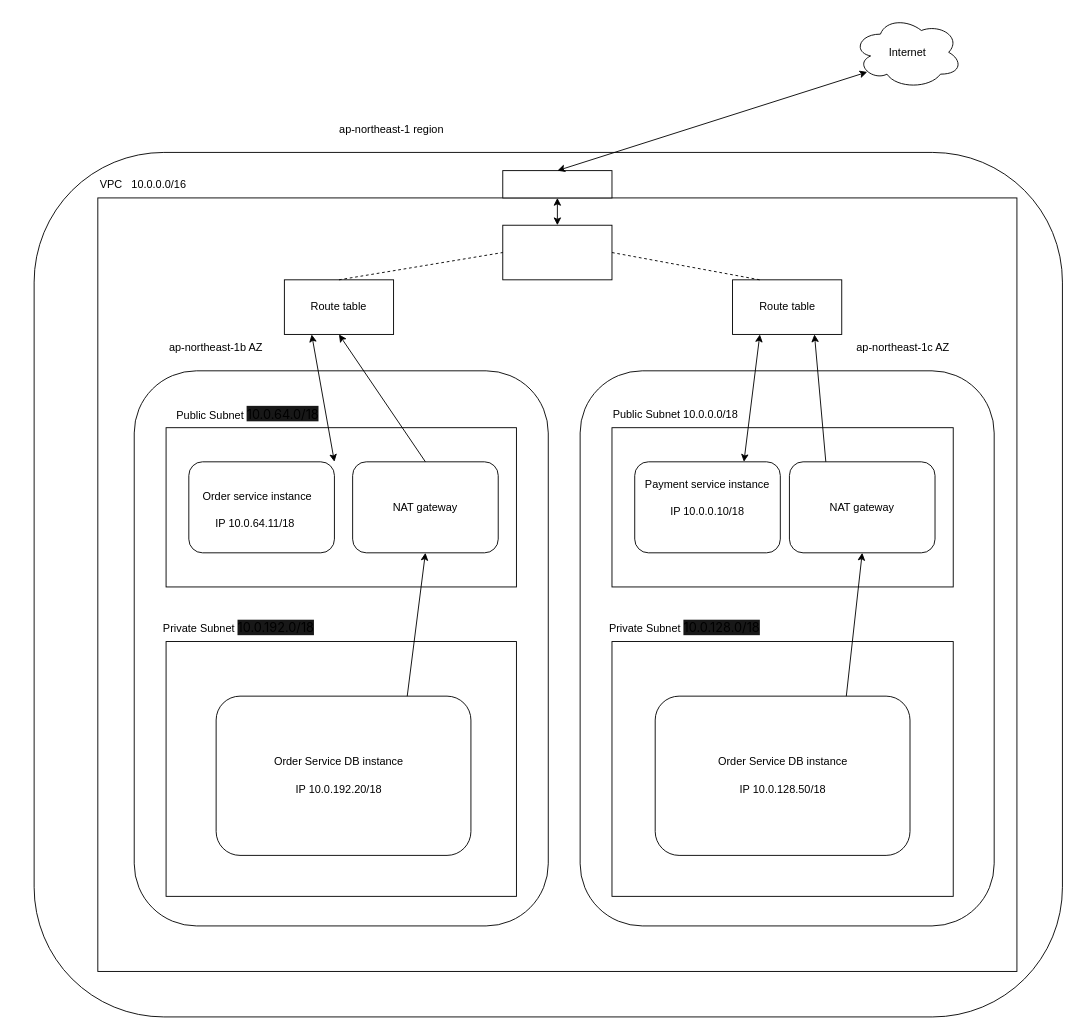
Some shapes in this 1078 by 1033 pixel diagram are drawn without their labels. Here are the shapes that lost their labels. From the top down, the centre of each, then its label:
At (557,184): "internet gateway".
At (557,252): "NACL".
